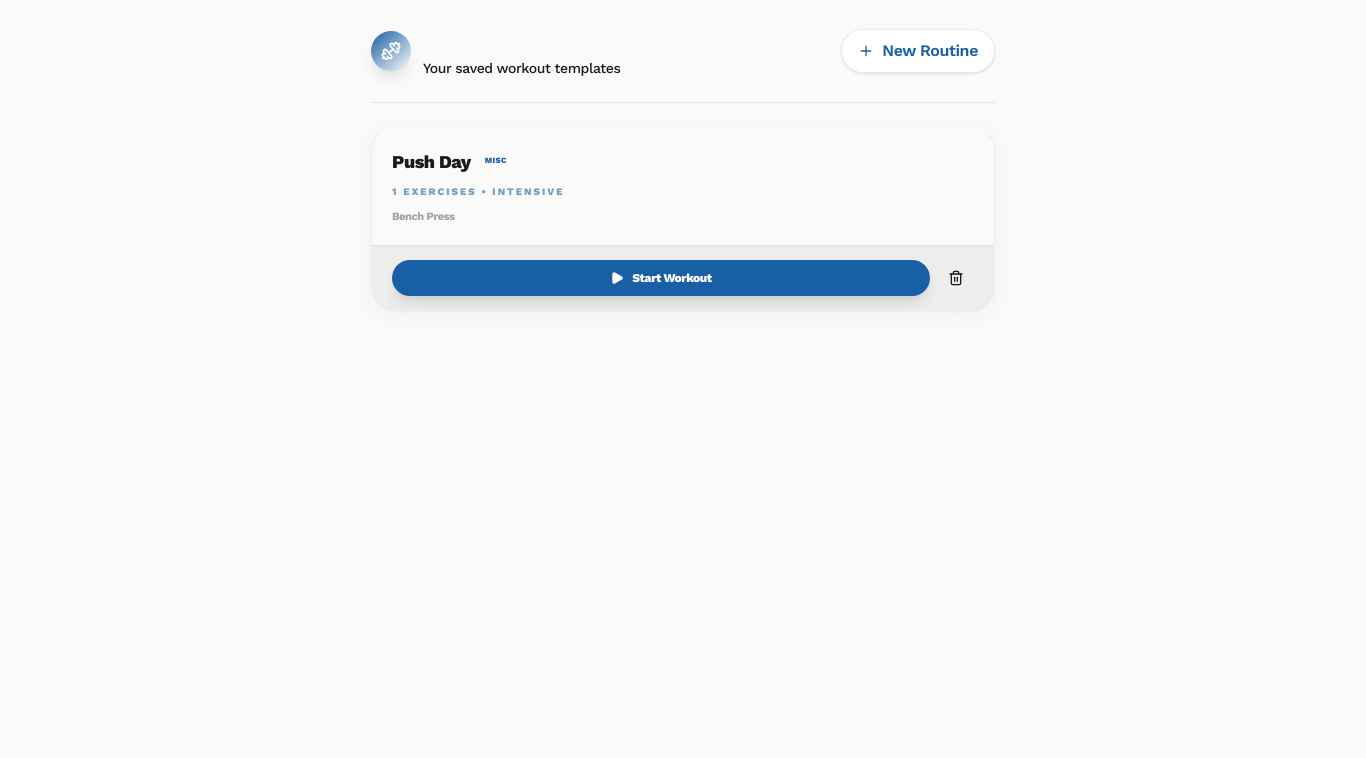
RoutinesTab Component › allows adding and removing exercises in preview/edit view
Click on routine card to open preview
Step 1. Click the heading "Push Day" → (431, 162), box [392,148,471,176]
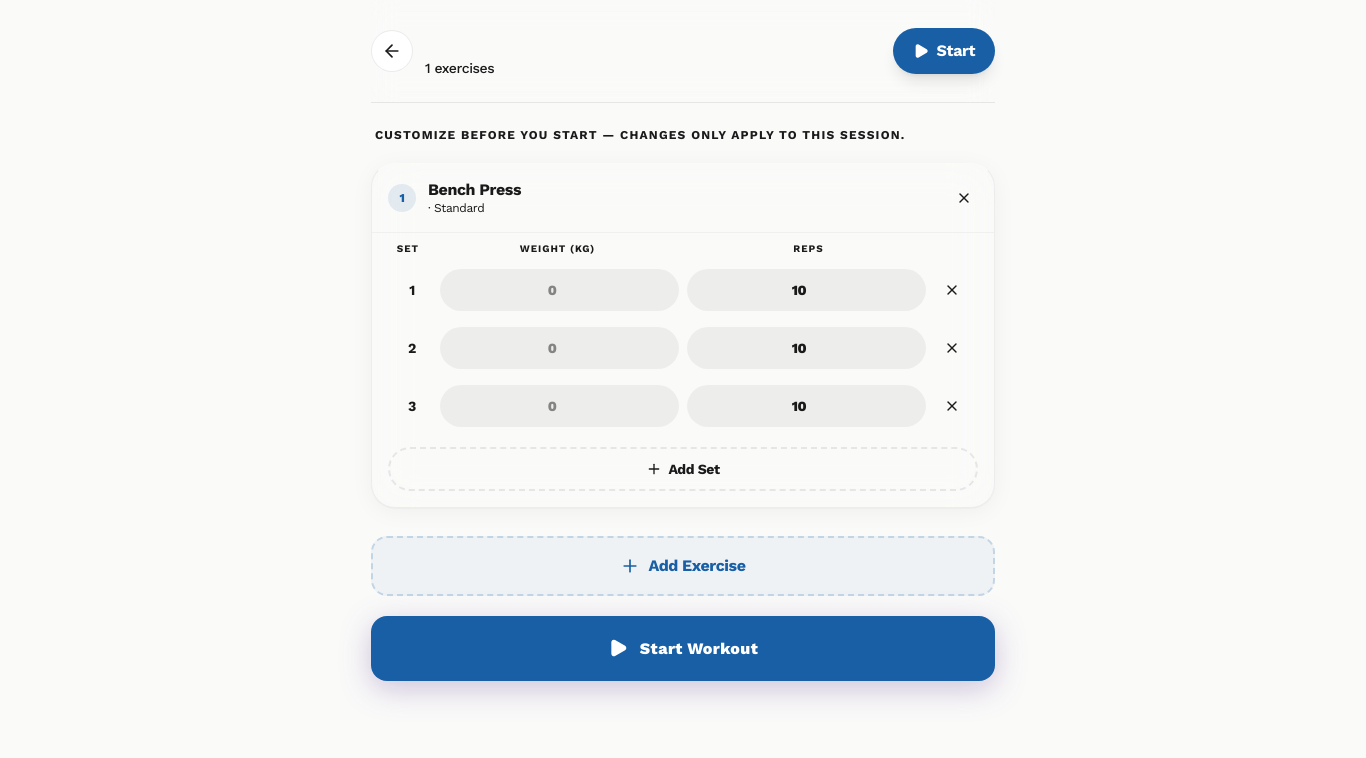
Add exercise
Step 2. Click the button "Add Exercise" → (683, 566), box [371,536,995,596]
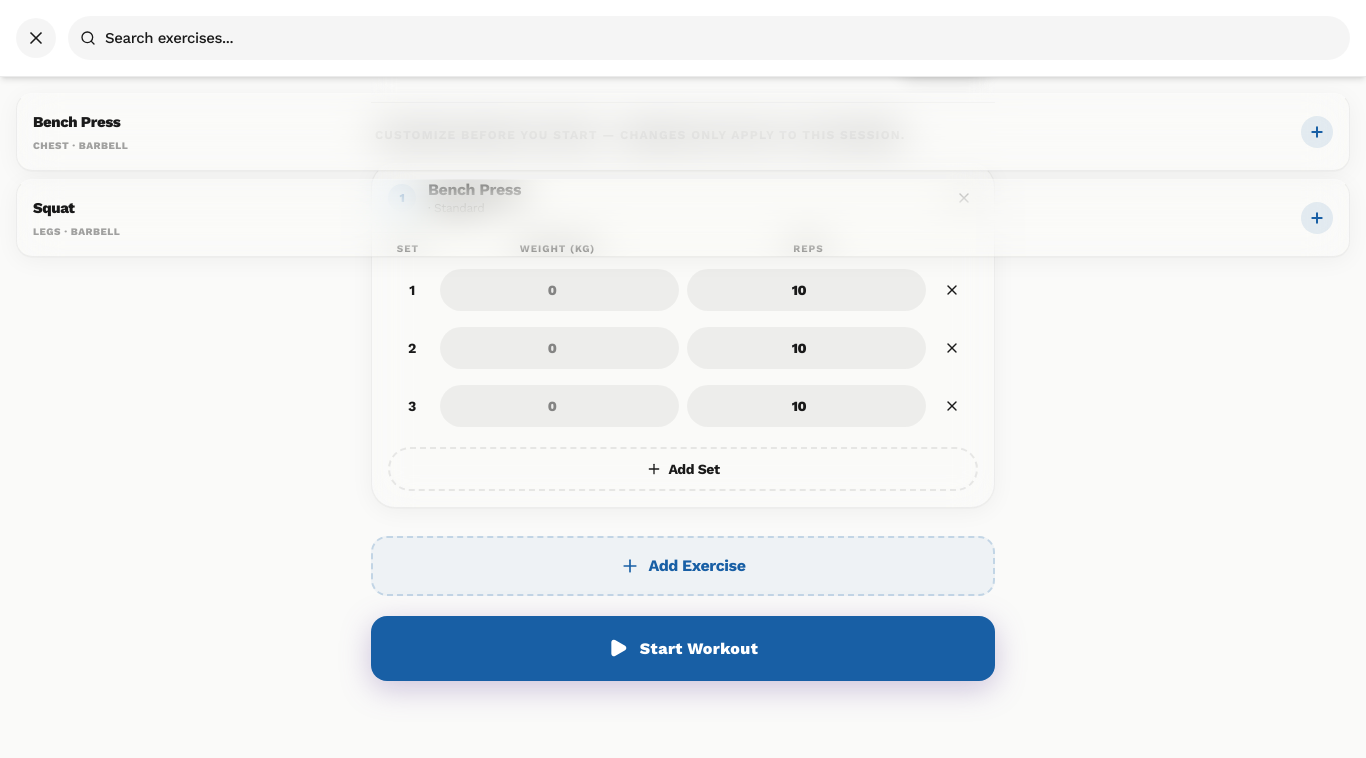
Step 3. Click the heading "Squat" → (54, 208), box [33,199,74,217]
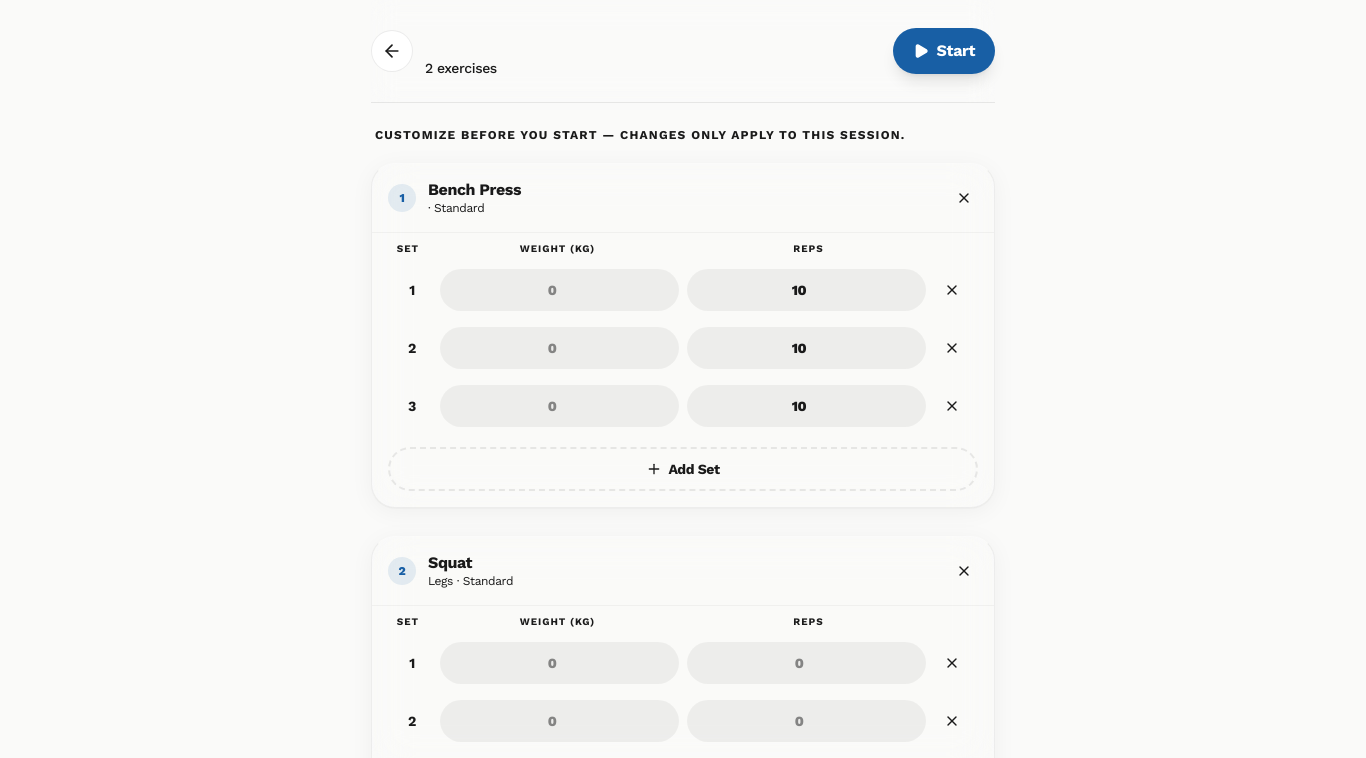
Result: the heading "Squat" is shown at [428,553,472,572]
Remove exercise
Step 4. Click the button with test id "remove-preview-exercise-1" → (964, 571), box [950,557,978,585]
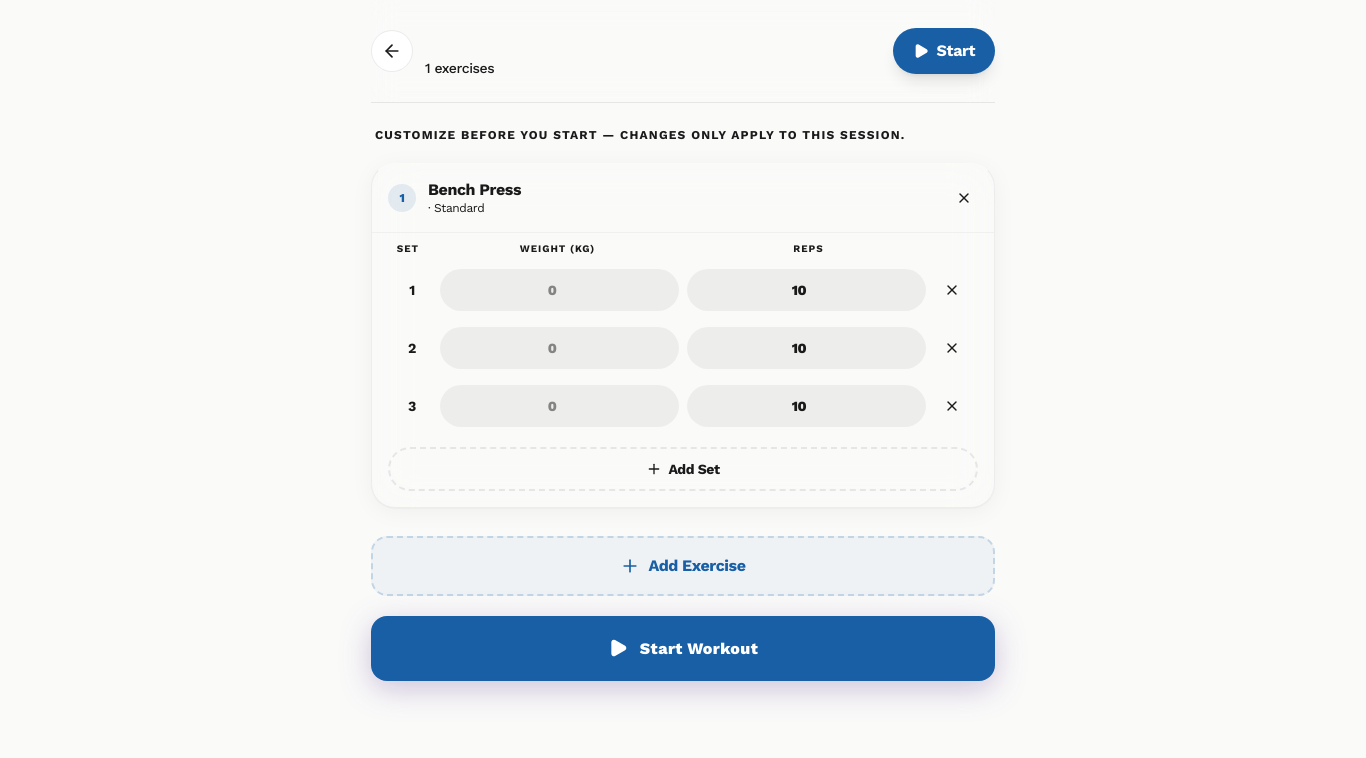
Result: the heading "Squat" is gone
